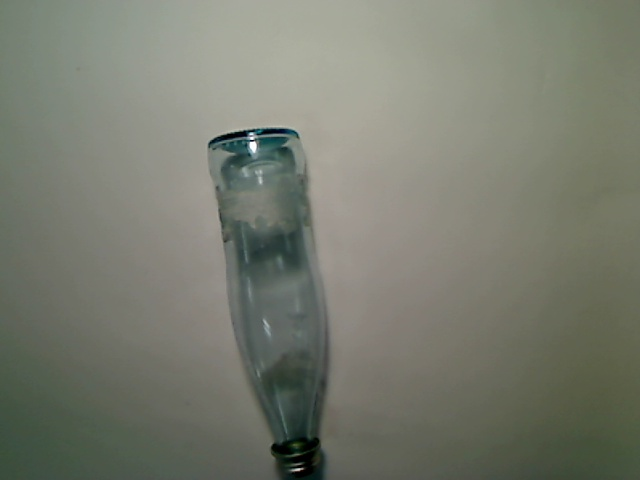bottle: (206, 127, 328, 480)
